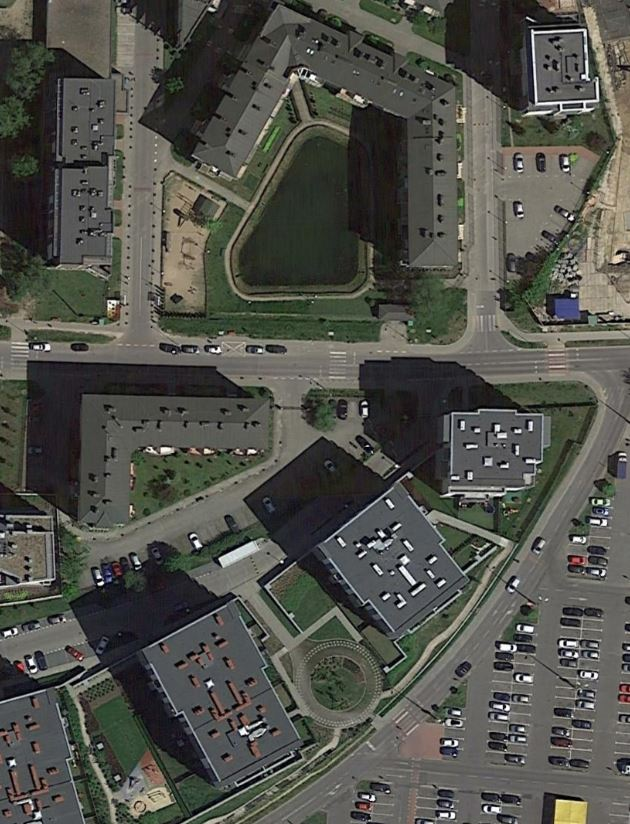block of flats: (188, 1, 468, 276), (131, 596, 305, 787), (68, 387, 280, 535), (311, 478, 473, 644), (42, 70, 120, 275), (1, 677, 95, 824), (430, 406, 559, 512), (510, 20, 606, 124)
